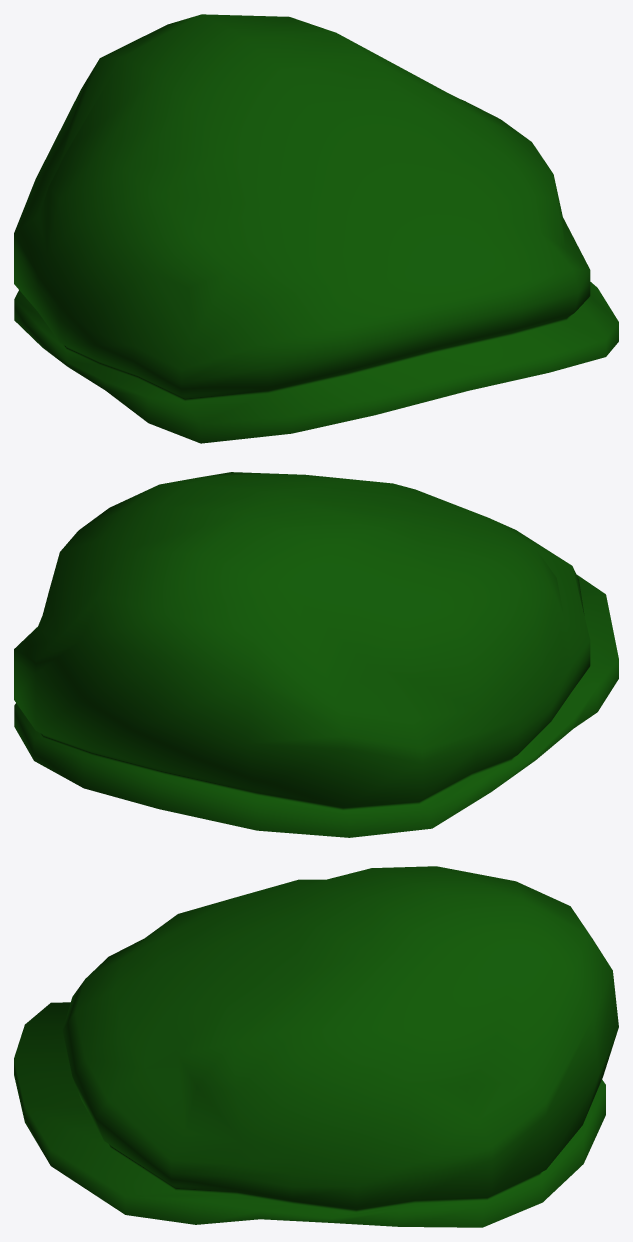
File: aa-hats-hatcapbelfast.glb
The picture shows the model from 3 angles, top to bottom: view 1: azimuth 30°, elevation 25°; view 2: azimuth 150°, elevation 25°; view 3: azimuth 270°, elevation 25°; orthographic projection. The views are drawn at different scales.
Parts seen in each view (by area): view 1: hatCapBelfast; view 2: hatCapBelfast; view 3: hatCapBelfast.
Boxes of the visible parts, x1=… form: hatCapBelfast: x1=14, y1=14, x2=618, y2=443; hatCapBelfast: x1=14, y1=472, x2=618, y2=837; hatCapBelfast: x1=14, y1=866, x2=618, y2=1227.
Bounding box in the file's own units: 0.4922 × 0.2478 × 0.5754.
1 material, 1 textured.
